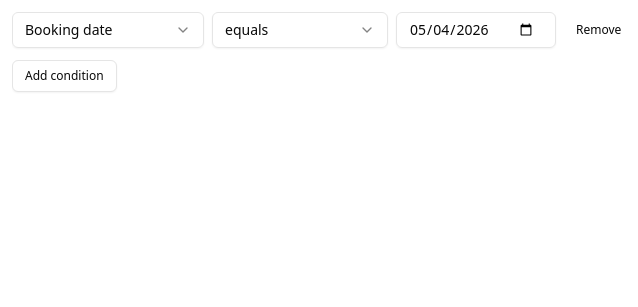
it: ConditionBuilder relative-date operators › labels operators in plain English rather than raw camelCase keys
Click the dropdown named "Condition 1 operator".
click(300, 30)  # box [212,12,388,48]
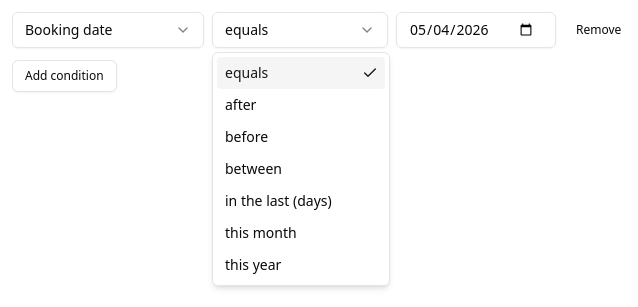
Now the option "this month" is shown, box [225,223,297,242]
